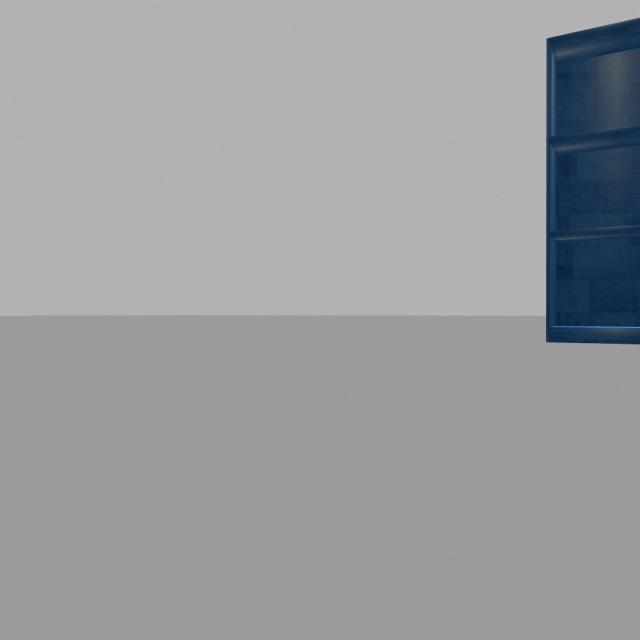shelf: (536, 6, 640, 365)
